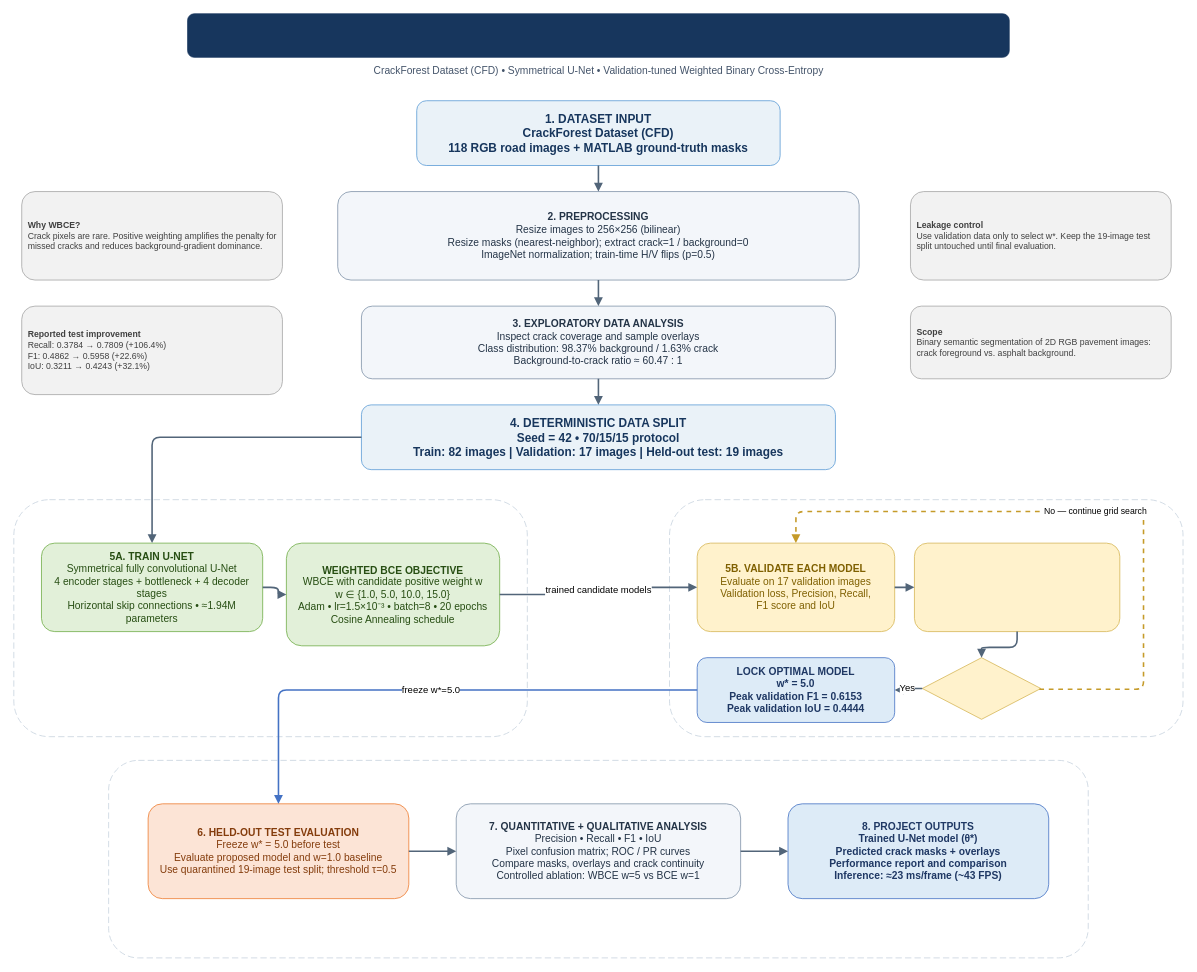
Some shapes in this 1197 by 972 pixel diagram are drawn without their labels. The shapes that lost their labels are listed below. From the top down, each one's box as (x1, y1, x2, y2) in pixels, then its label:
(187, 13, 1009, 57): CRACK SEGMENTATION — OVERALL PROJECT WORKFLOW
(914, 542, 1120, 632): SELECT w* Choose candidate with maximum validation F1 (and inspect IoU)
(13, 499, 527, 737): TRAINING / MODEL OPTIMIZATION
(669, 499, 1183, 737): VALIDATION / HYPERPARAMETER SELECTION
(922, 657, 1041, 719): Best weight selected?
(108, 760, 1088, 958): FINAL TESTING & REPORTING
